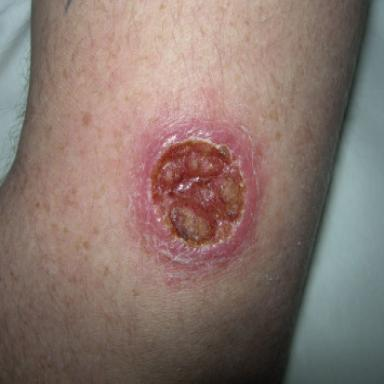Leishmanios: (133, 116, 259, 268)
